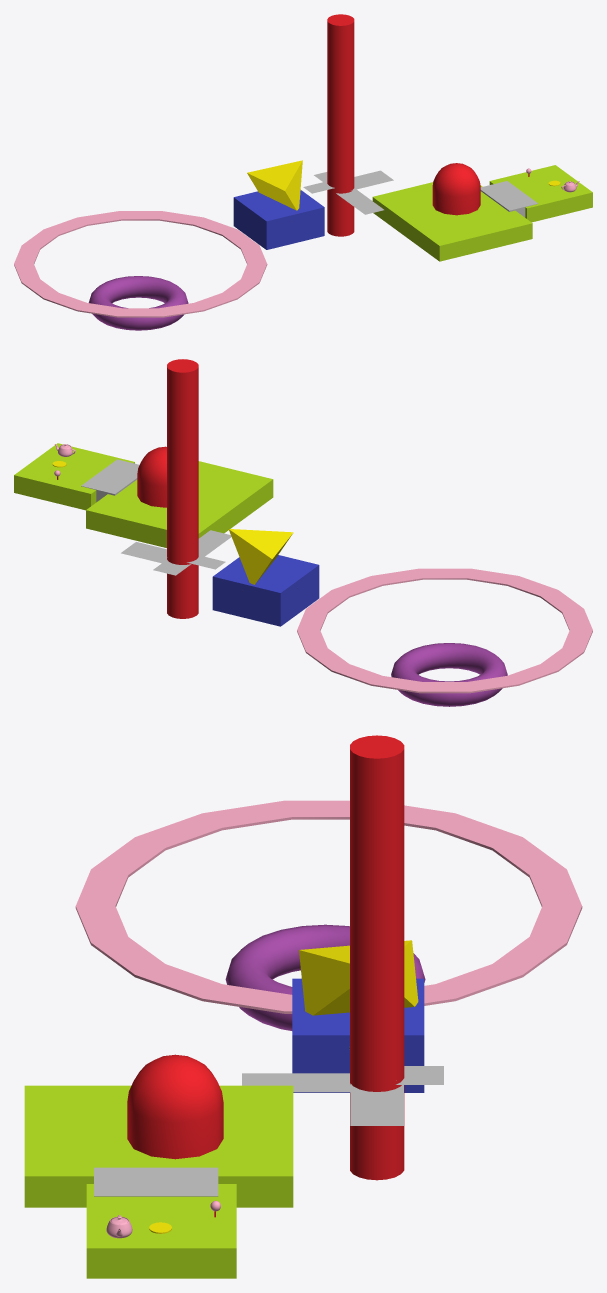
Rendered from stage2.fbx.
The picture shows the model from 3 angles, top to bottom: view 1: azimuth 30°, elevation 25°; view 2: azimuth 150°, elevation 25°; view 3: azimuth 270°, elevation 25°; orthographic projection. The views are drawn at different scales.
Visible parts, largest first — view 1: Tube001, Box004, Cylinder003, Box005, Torus001, Box001, Capsule001, Pyramid001, Box003, Plane003, Plane004; view 2: Tube001, Cylinder003, Box004, Box005, Torus001, Box001, Pyramid001, Capsule001, Box003, Plane004, Plane003; view 3: Tube001, Cylinder003, Box004, Box001, Capsule001, Box005, Torus001, Pyramid001, Box003, Plane004, Plane003, Plane001.
Boxes of the visible parts, left/top/right/bottom form: Tube001: left=14, top=211, right=267, bottom=317; Box004: left=372, top=182, right=532, bottom=261; Cylinder003: left=327, top=14, right=354, bottom=236; Box005: left=233, top=190, right=324, bottom=249; Torus001: left=88, top=276, right=188, bottom=330; Box001: left=489, top=165, right=592, bottom=222; Capsule001: left=432, top=163, right=480, bottom=215; Pyramid001: left=247, top=160, right=302, bottom=210; Box003: left=480, top=181, right=538, bottom=217; Plane003: left=336, top=189, right=383, bottom=214; Plane004: left=351, top=170, right=393, bottom=190; Tube001: left=297, top=568, right=592, bottom=693; Cylinder003: left=167, top=359, right=198, bottom=618; Box004: left=86, top=461, right=273, bottom=547; Box005: left=212, top=555, right=319, bottom=626; Torus001: left=391, top=643, right=507, bottom=706; Box001: left=14, top=443, right=134, bottom=510; Pyramid001: left=228, top=529, right=293, bottom=584; Capsule001: left=137, top=446, right=166, bottom=507; Box003: left=81, top=459, right=139, bottom=502; Plane004: left=121, top=542, right=166, bottom=563; Plane003: left=198, top=530, right=231, bottom=556; Tube001: left=75, top=800, right=582, bottom=1013; Cylinder003: left=350, top=735, right=404, bottom=1180; Box004: left=24, top=1085, right=293, bottom=1207; Box001: left=86, top=1184, right=236, bottom=1278; Capsule001: left=127, top=1054, right=223, bottom=1159; Box005: left=292, top=978, right=424, bottom=1092; Torus001: left=225, top=924, right=425, bottom=1030; Pyramid001: left=299, top=940, right=418, bottom=1015; Box003: left=94, top=1167, right=218, bottom=1196; Plane004: left=350, top=1083, right=403, bottom=1125; Plane003: left=242, top=1073, right=350, bottom=1092; Plane001: left=396, top=1066, right=443, bottom=1084.
Size of the model in its own units: 19372 by 8559 by 9354.
